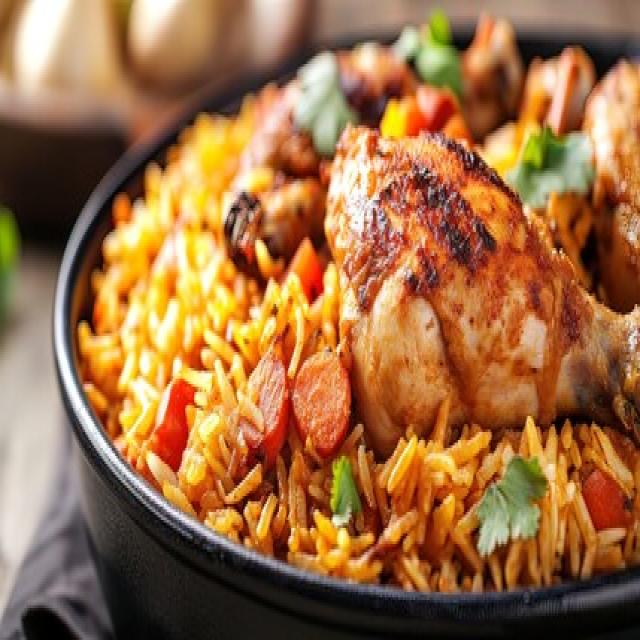BIRIYANI: (78, 16, 639, 589)
